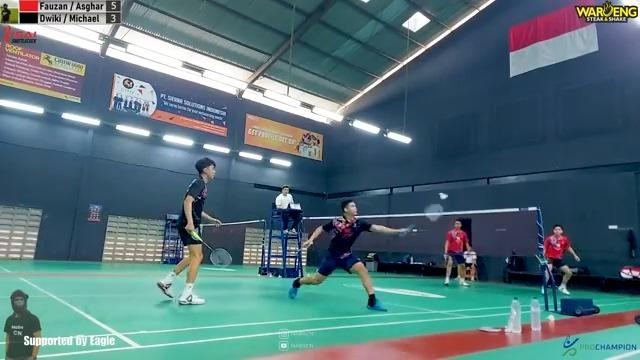Shuttlecock: (439, 190, 449, 200)
